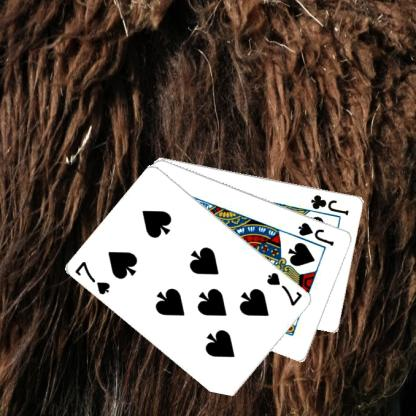7S: (264, 270, 304, 308), (72, 258, 112, 296)
JC: (309, 191, 350, 216)
JS: (296, 219, 336, 247)
